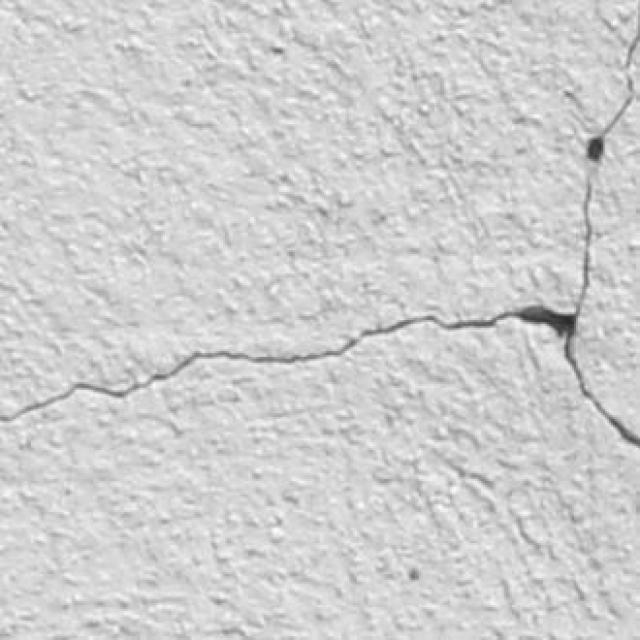crack: (0, 0, 639, 447), (0, 307, 574, 422), (565, 0, 639, 447), (565, 177, 639, 447)
